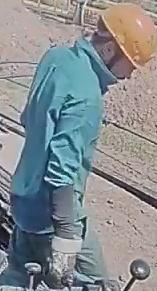gloves: (46, 227, 84, 286)
helmet: (100, 2, 156, 69)
vest: (9, 36, 117, 235)
